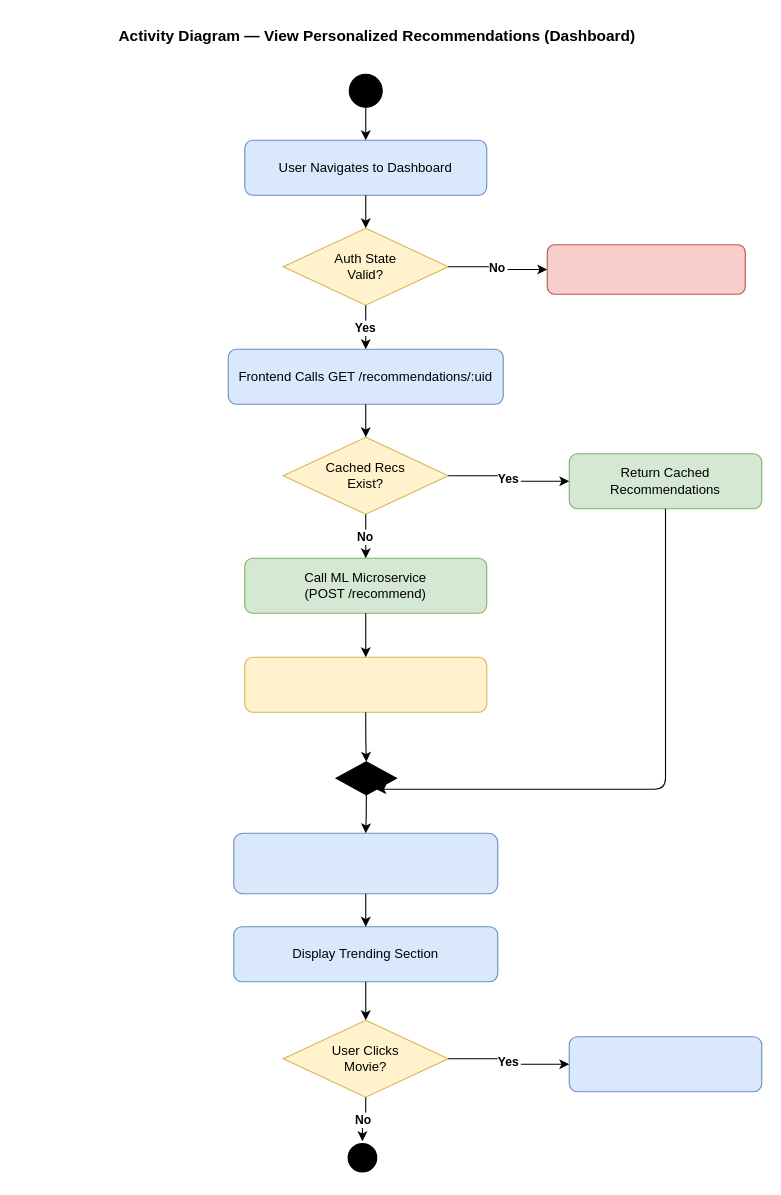
This 781x1195 diagram has some shape labels left out. Each missing label, with the centre of its shape:
"Display Recommendations on Dashboard (Movie Cards)" goes at (x=365, y=863).
"ML Returns Ranked Movie List" goes at (x=365, y=684).
"Navigate to Movie Detail Page" goes at (x=665, y=1064).
"Redirect to Login Page" goes at (x=645, y=269).
